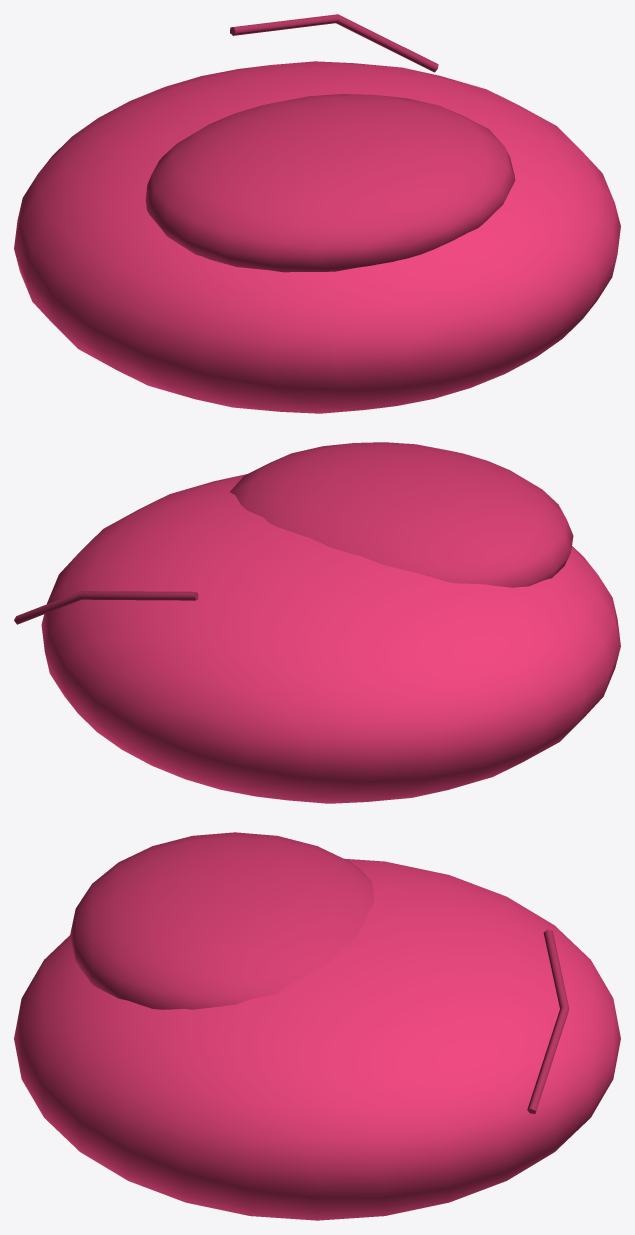
File: beanbag.fbx
3 renders of one model, top to bottom at view 1: azimuth 30°, elevation 25°; view 2: azimuth 150°, elevation 25°; view 3: azimuth 270°, elevation 25°, orthographic. The views are drawn at different scales.
Parts seen in each view (by area): view 1: Beanbag; view 2: Beanbag; view 3: Beanbag.
Part boxes in pixels (x1,y1,x2,y2): Beanbag: (14, 14, 620, 413); Beanbag: (14, 442, 620, 803); Beanbag: (14, 832, 620, 1220).
Size of the model in its own units: 1.9 by 0.92 by 1.84.
